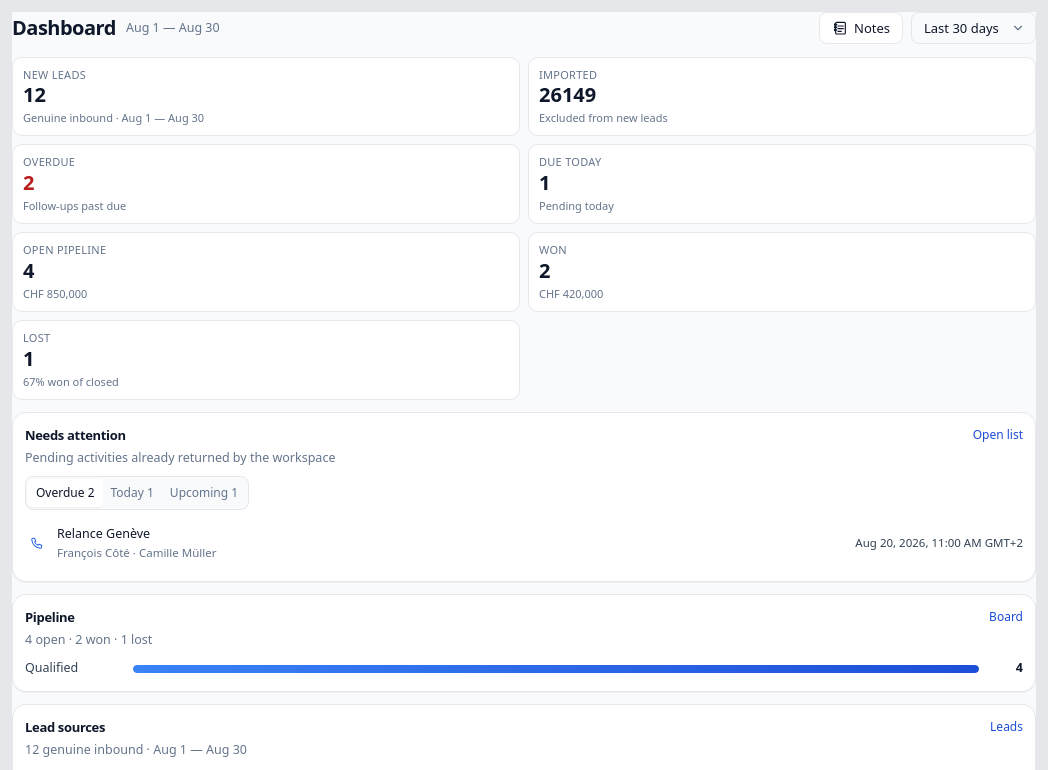
Scenario: DashboardPanel operator view › lets the operator switch the attention queue without inventing extra metrics
The width and height of the screenshot is (1048, 770).
Expected: the text "Relance Genève" is shown, [57,525,150,542]
Click the tab "Today 1" at [132, 493], box [102,479,162,507]
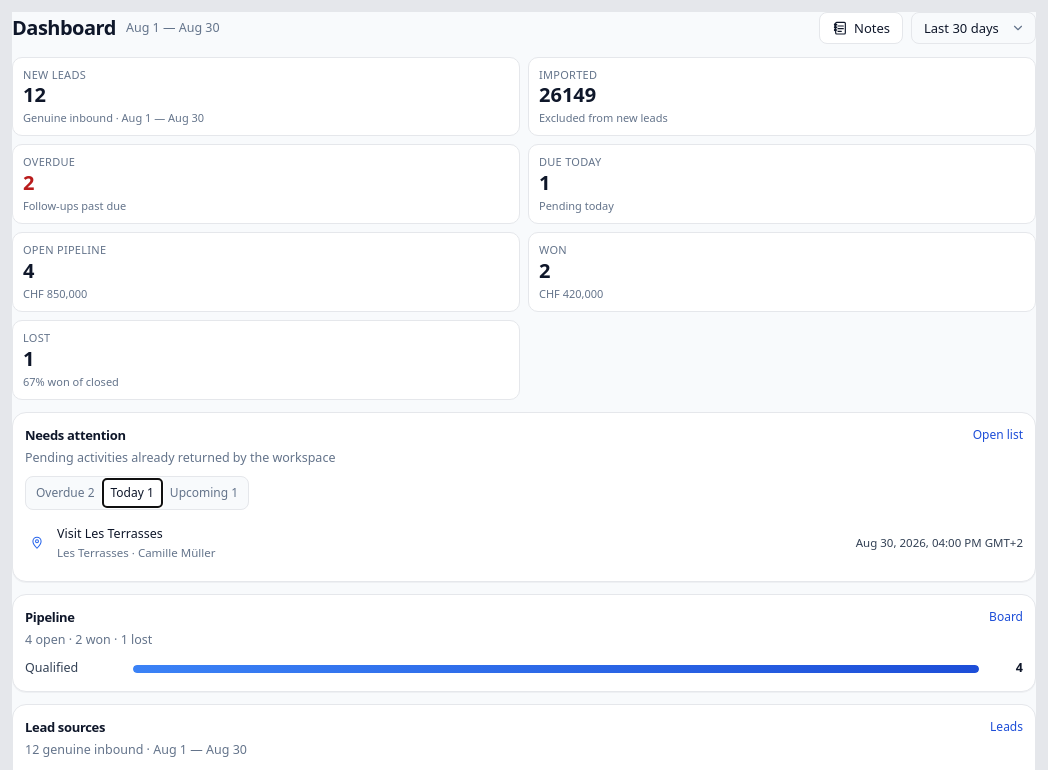
Now the text "Visit Les Terrasses" is shown, box [57,525,163,542]
Now the link "Relance Genève" is gone
